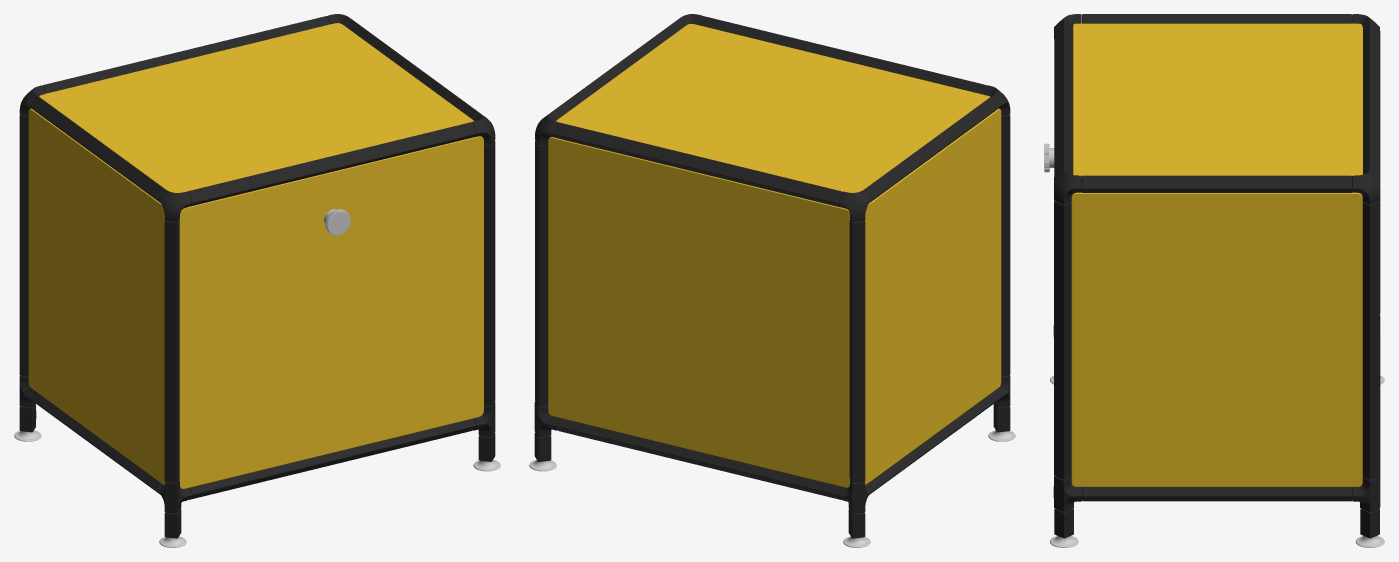
3 renders of one model, left to right at view 1: azimuth 30°, elevation 25°; view 2: azimuth 150°, elevation 25°; view 3: azimuth 270°, elevation 25°, orthographic. The views are drawn at different scales.
Parts seen in each view (by area): view 1: 479x374x420; view 2: 479x374x420; view 3: 479x374x420.
Part boxes in pixels (x1,y1,x2,y2): 479x374x420: (14,14,500,547); 479x374x420: (529,14,1015,547); 479x374x420: (1044,14,1384,547).
Bounding box in the file's own units: 0.5689 × 0.5593 × 0.4707.
